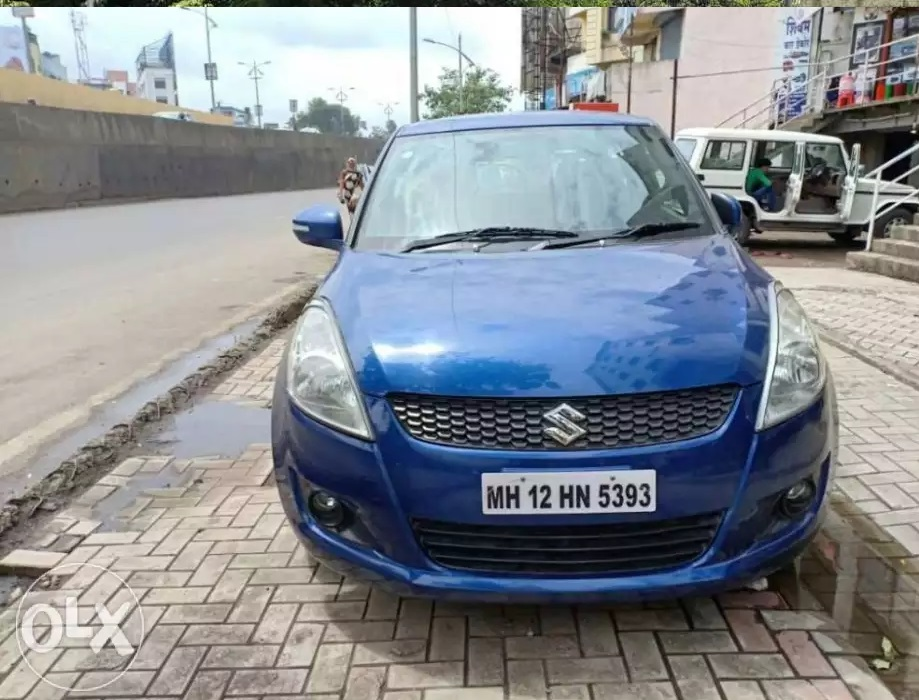licenseplate: (481, 468, 661, 515)
